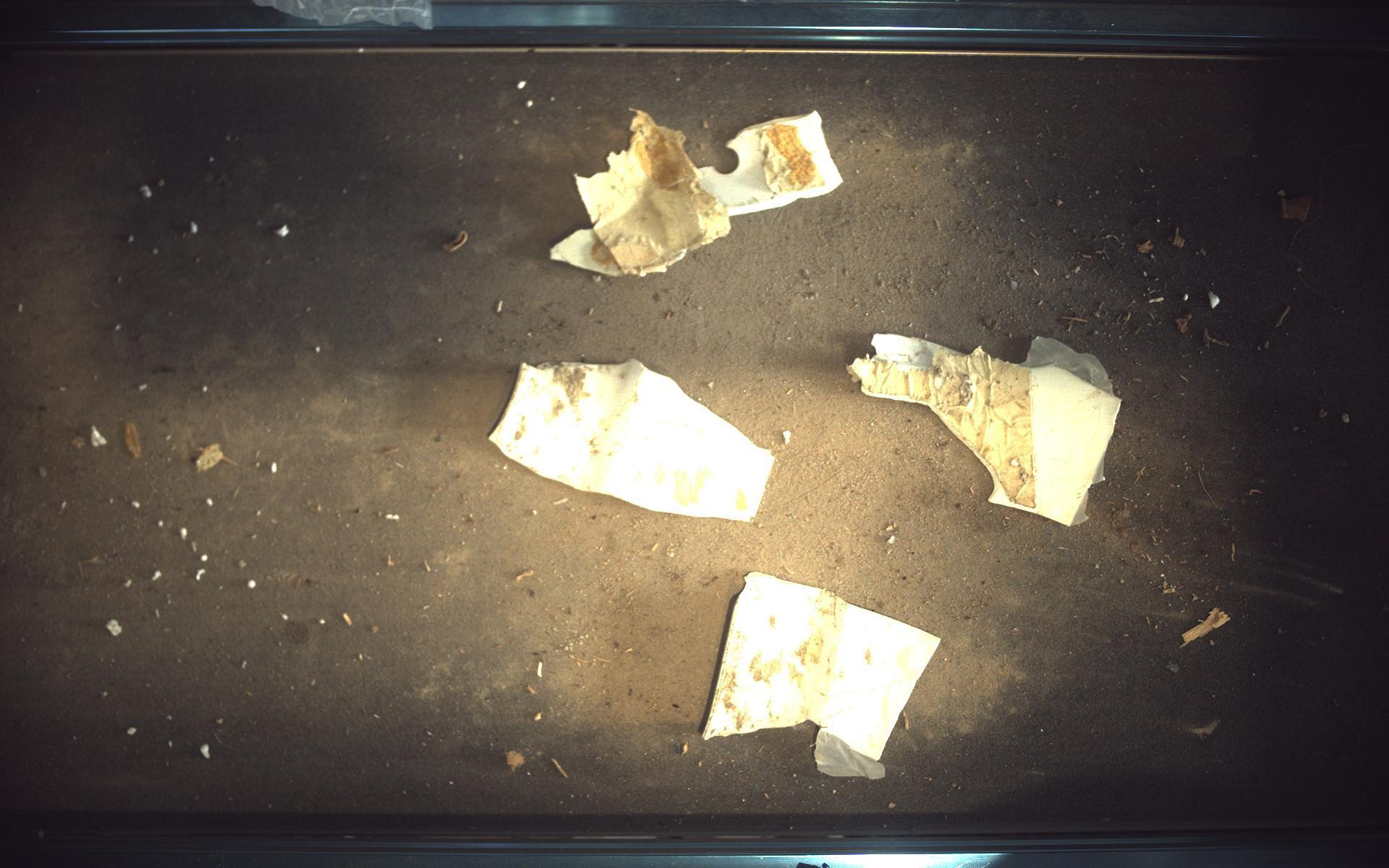plastic: (850, 333, 1123, 526), (704, 573, 941, 780), (551, 109, 844, 275), (490, 359, 775, 522)
